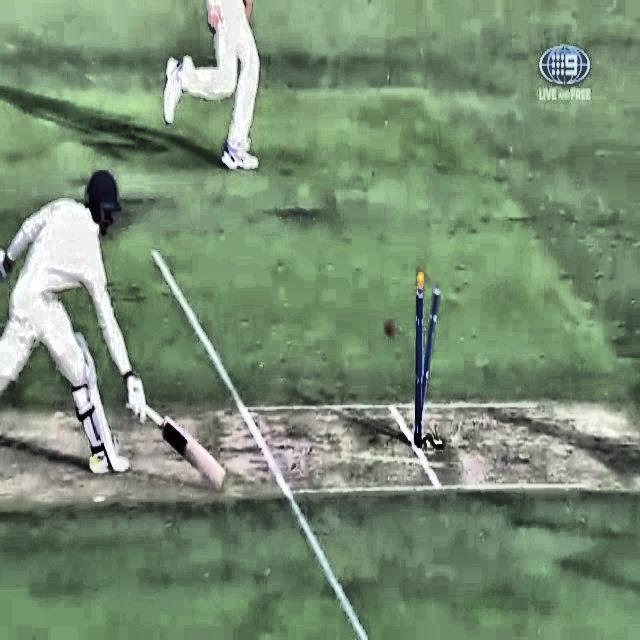Ball: (375, 313, 403, 343)
Bat: (133, 398, 233, 492)
Dis_Wicket: (403, 263, 447, 455)
Pitch_Line: (150, 245, 367, 640)
